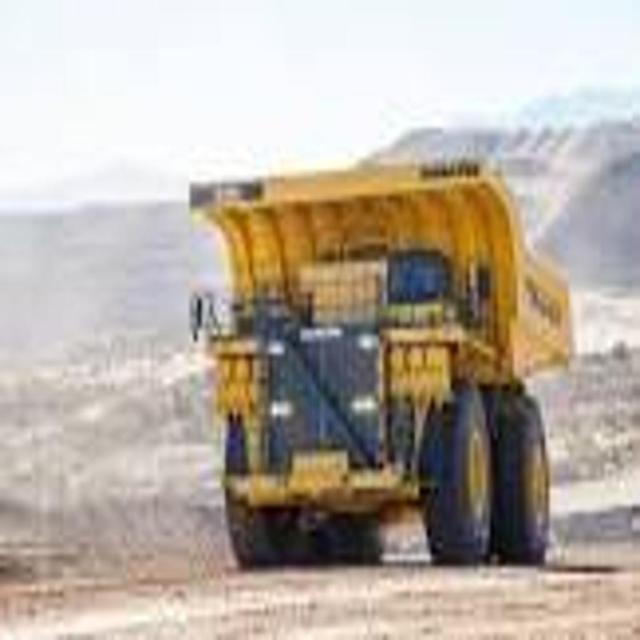dump_truck: (186, 134, 569, 574)
